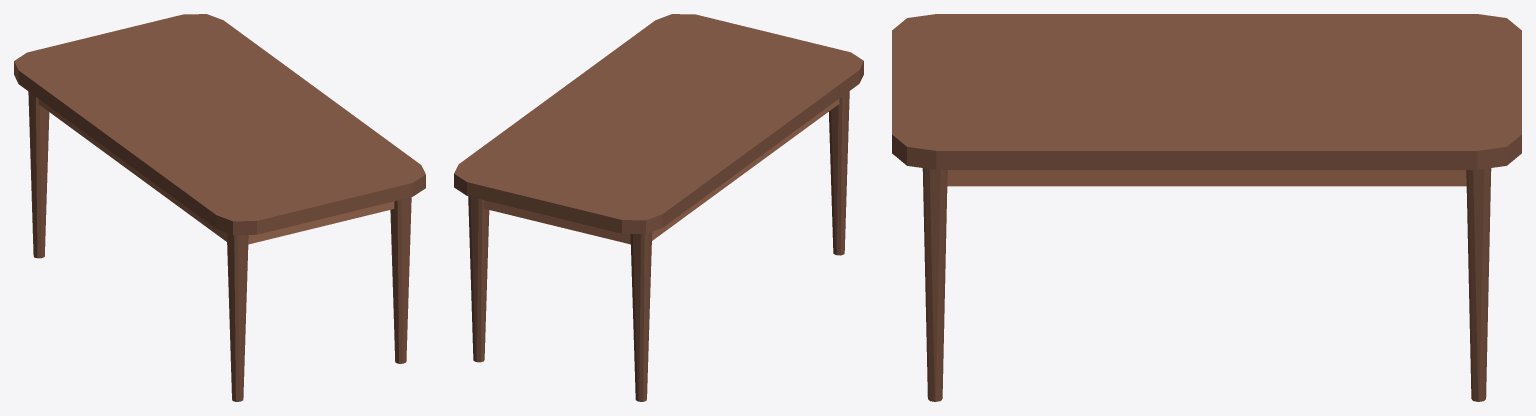
The model's file is стол кухня.fbx.
3 views of the same model, side by side, from view 1: azimuth 30°, elevation 25°; view 2: azimuth 150°, elevation 25°; view 3: azimuth 270°, elevation 25° (orthographic). The views are drawn at different scales.
Parts seen in each view (by area): view 1: Cube.055; view 2: Cube.055; view 3: Cube.055.
Part boxes in pixels (x1,y1,x2,y2): Cube.055: [14, 14, 425, 401]; Cube.055: [454, 14, 863, 401]; Cube.055: [892, 14, 1521, 401].
Size of the model in its own units: 1251 by 1115 by 2432.
